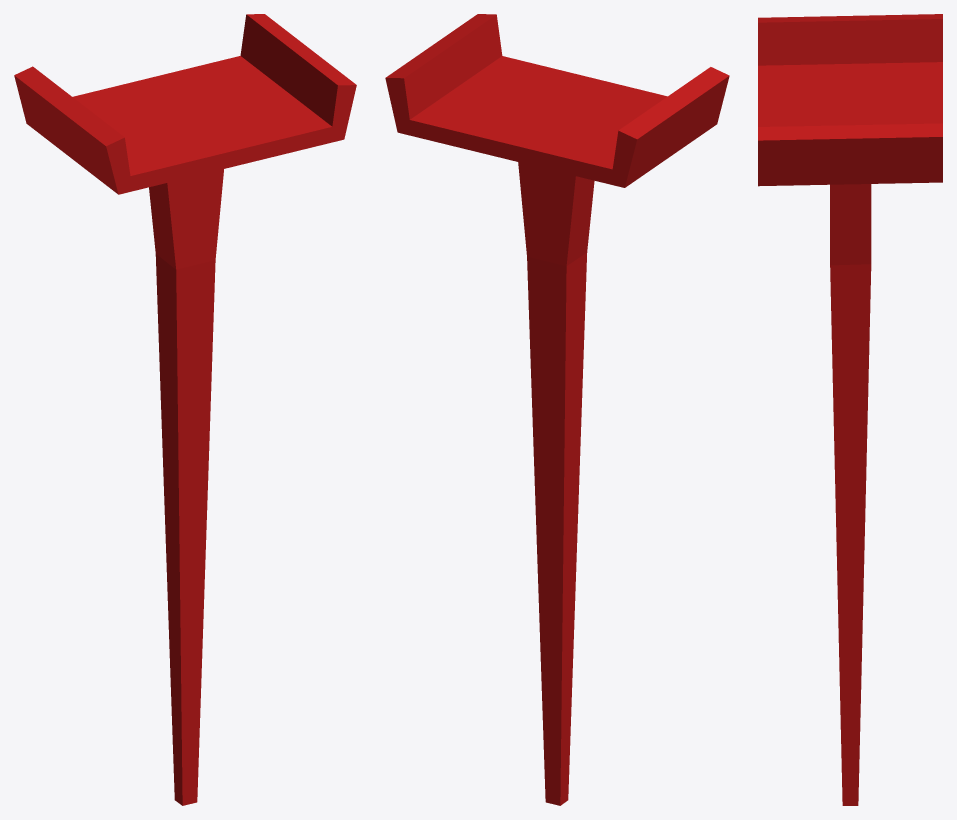
Rendered from SM_Collons_v05_.FBX.
3 renders of one model, left to right at view 1: azimuth 30°, elevation 25°; view 2: azimuth 150°, elevation 25°; view 3: azimuth 270°, elevation 25°, orthographic.
Parts seen in each view (by area): view 1: SM_ColonsVelo_v01_; view 2: SM_ColonsVelo_v01_; view 3: SM_ColonsVelo_v01_.
Part boxes in pixels (box(x1,y1,x2,y2)): SM_ColonsVelo_v01_: box(14, 14, 356, 805); SM_ColonsVelo_v01_: box(385, 14, 729, 805); SM_ColonsVelo_v01_: box(758, 14, 942, 805).
Bounding box in the file's own units: 3.92 × 10.85 × 2.49.
